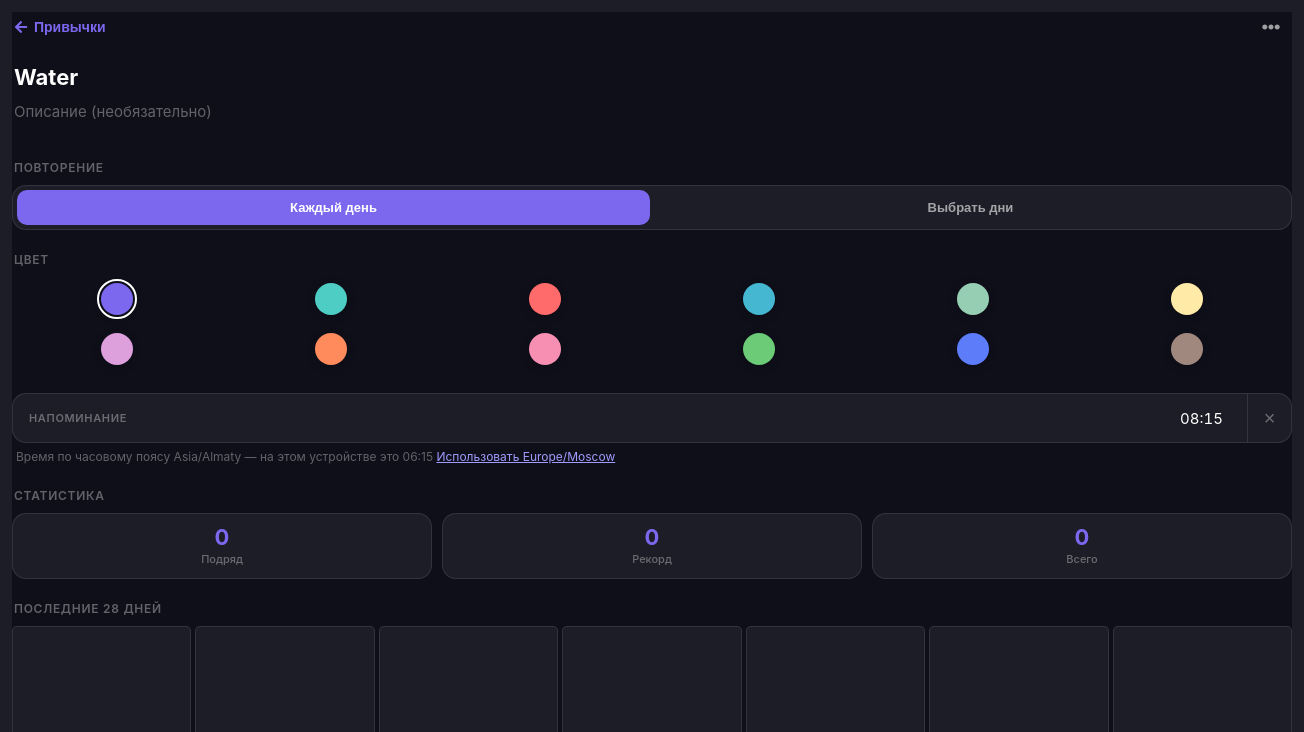
it: switching to the device zone after confirming writes it
Click the button "Использовать Europe/Moscow" at [526, 457], box x1=436 y1=449 x2=615 y2=466
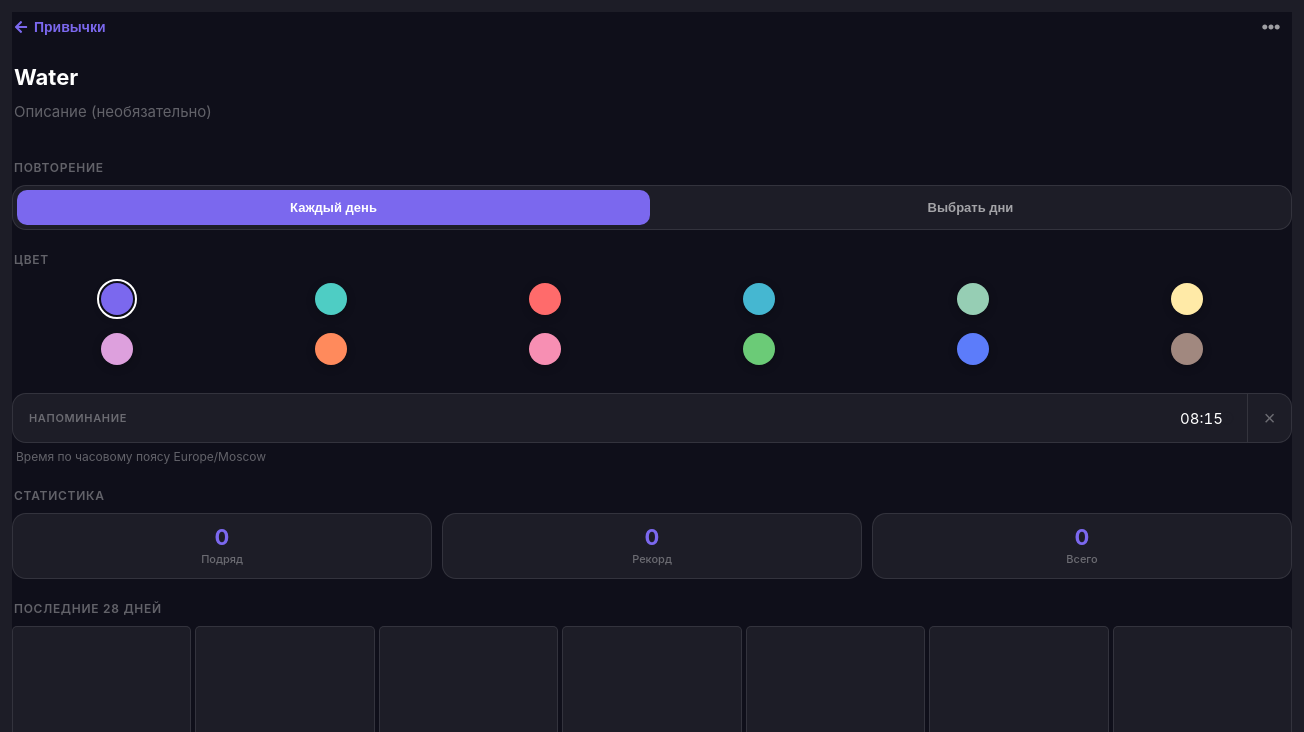
expect the text "Время по часовому поясу Europe/Moscow" is shown: met, box x1=16 y1=449 x2=266 y2=464
